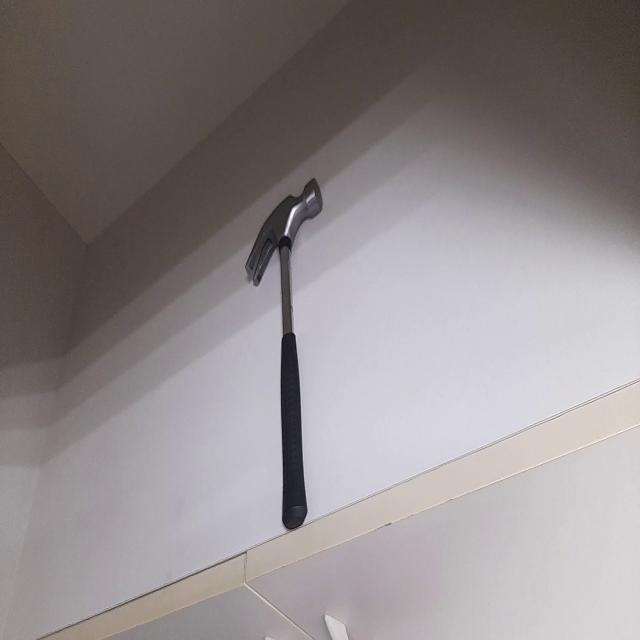hammer: (244, 175, 322, 530)
